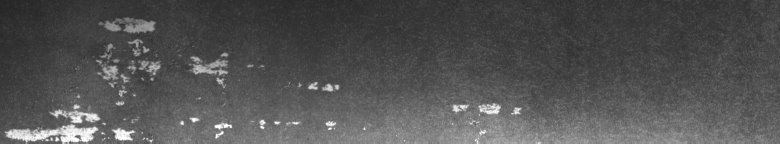kb: (4, 16, 339, 136)
